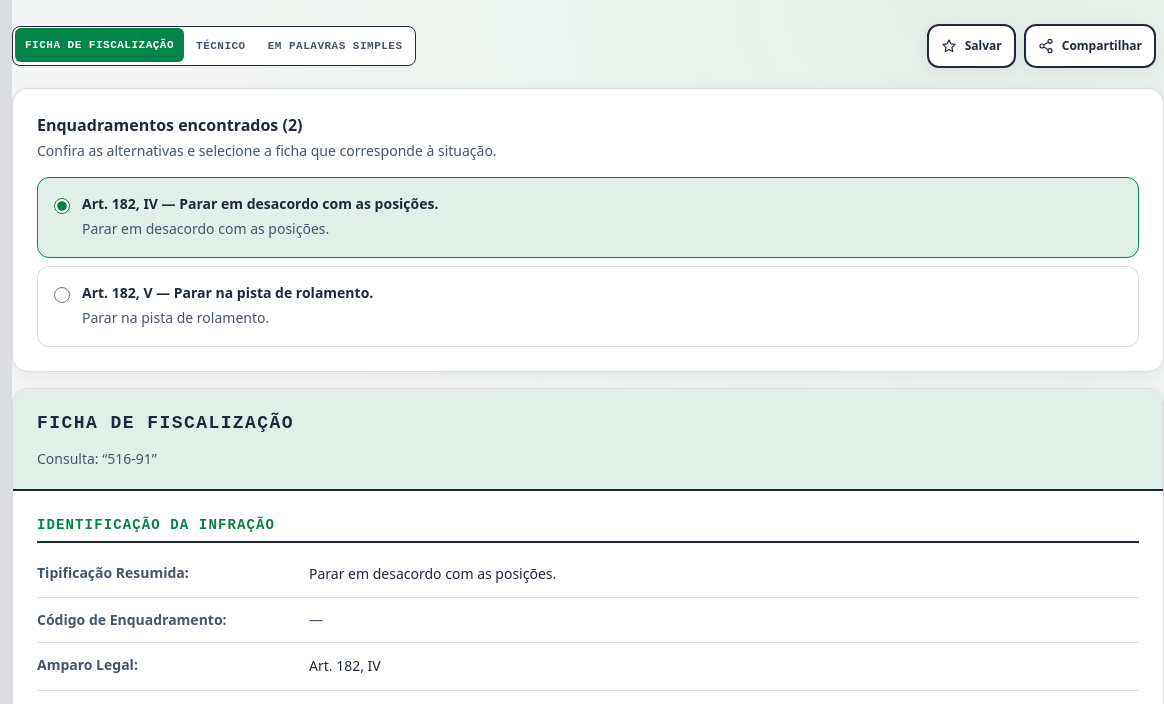
Scenario: ConsultaResult › lets the agent pick the sheet when several enquadramentos match
Expected: the text "Art. 182, IV" is shown, [309,656,381,675]
Click the radio button labelled "Art. 182, V —". click: (62, 295)
box: [54,287,70,303]
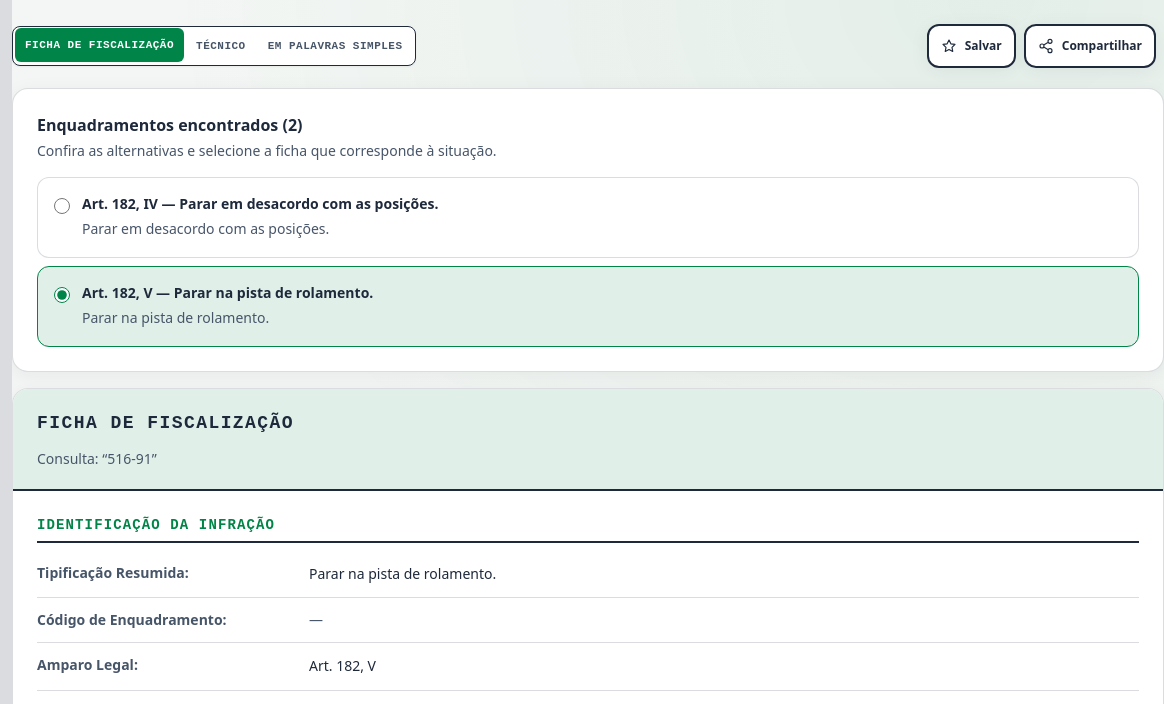
Expected: the radio button labelled "Art. 182, V —" is checked, [54,287,70,303]
Expected: the text "Art. 182, V" is shown, [309,656,376,675]
